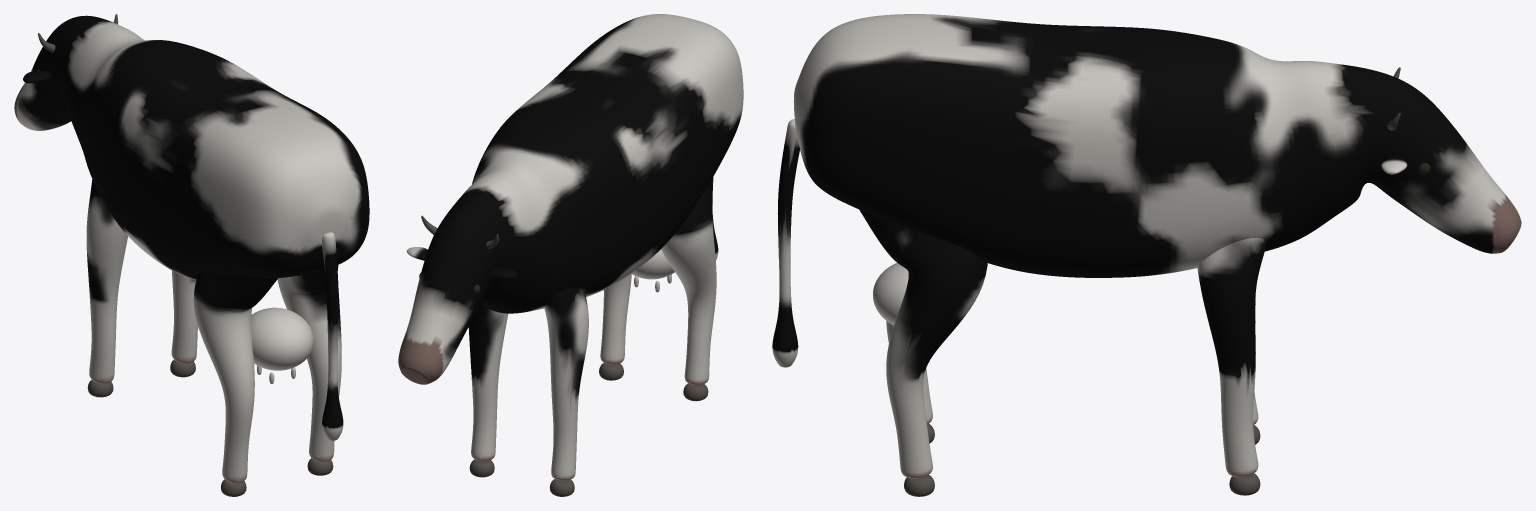
Rendered from cow_holstein_standing.gltf.
The picture shows the model from 3 angles, left to right: view 1: azimuth 30°, elevation 25°; view 2: azimuth 150°, elevation 25°; view 3: azimuth 270°, elevation 25°; orthographic projection. The views are drawn at different scales.
Parts seen in each view (by area): view 1: cow; view 2: cow; view 3: cow.
Boxes of the visible parts, bbox=[...] form: cow: bbox=[14, 14, 369, 496]; cow: bbox=[398, 14, 743, 496]; cow: bbox=[772, 14, 1521, 496].
Size of the model in its own units: 0.6575 by 1.6 by 2.49.
